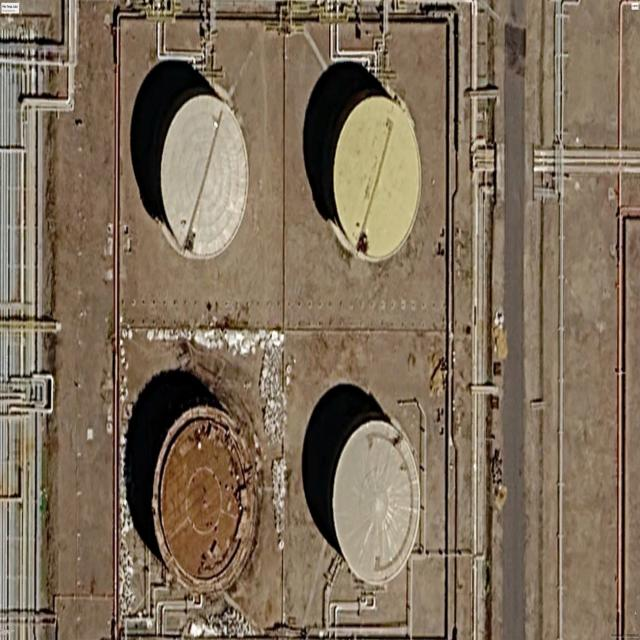Oil Rafinery: (152, 405, 257, 593), (329, 416, 420, 585), (333, 96, 421, 259), (160, 94, 248, 257)
